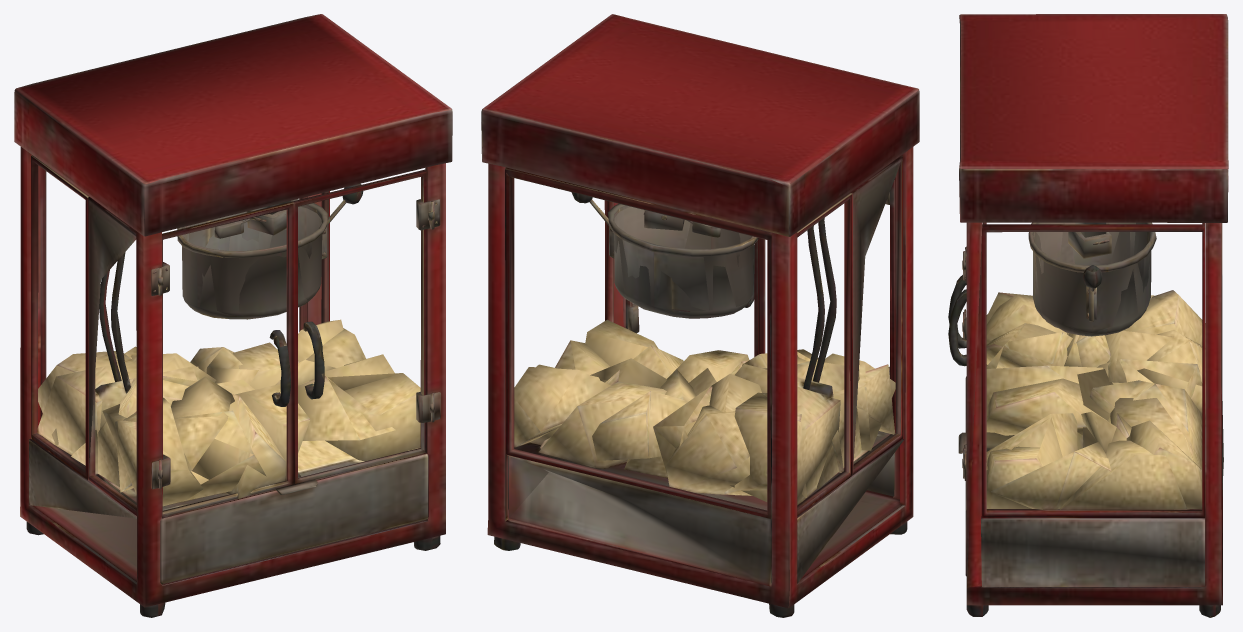
Rendered from p7-popcorn-machine-t25.glb.
The picture shows the model from 3 angles, left to right: view 1: azimuth 30°, elevation 25°; view 2: azimuth 150°, elevation 25°; view 3: azimuth 270°, elevation 25°; orthographic projection. The views are drawn at different scales.
Parts seen in each view (by area): view 1: p7-popcorn-machine-t25; view 2: p7-popcorn-machine-t25; view 3: p7-popcorn-machine-t25.
Boxes of the visible parts, box(x1,y1,x2,y2) form: p7-popcorn-machine-t25: box(14, 14, 452, 617); p7-popcorn-machine-t25: box(481, 14, 919, 617); p7-popcorn-machine-t25: box(948, 14, 1228, 617).
Size of the model in its own units: 0.55 by 0.75 by 0.421.
1 material, 1 textured.
